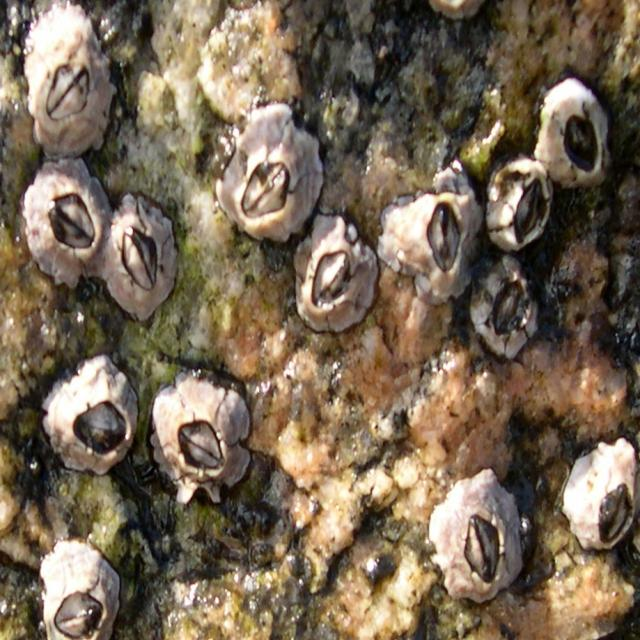barnacles: (13, 11, 122, 161), (426, 473, 526, 610), (377, 177, 481, 304), (222, 111, 322, 243), (150, 376, 255, 500), (37, 350, 138, 475), (559, 421, 637, 566), (21, 168, 109, 294), (31, 533, 131, 638), (287, 226, 380, 338), (98, 203, 183, 323), (536, 89, 612, 190), (470, 260, 538, 367), (489, 158, 552, 262)
